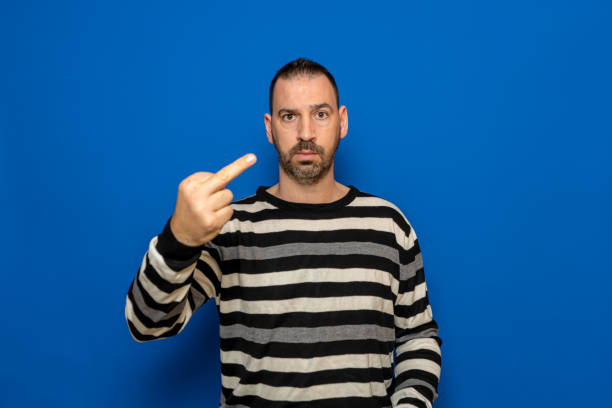insulting_gesture: (171, 152, 256, 242)
